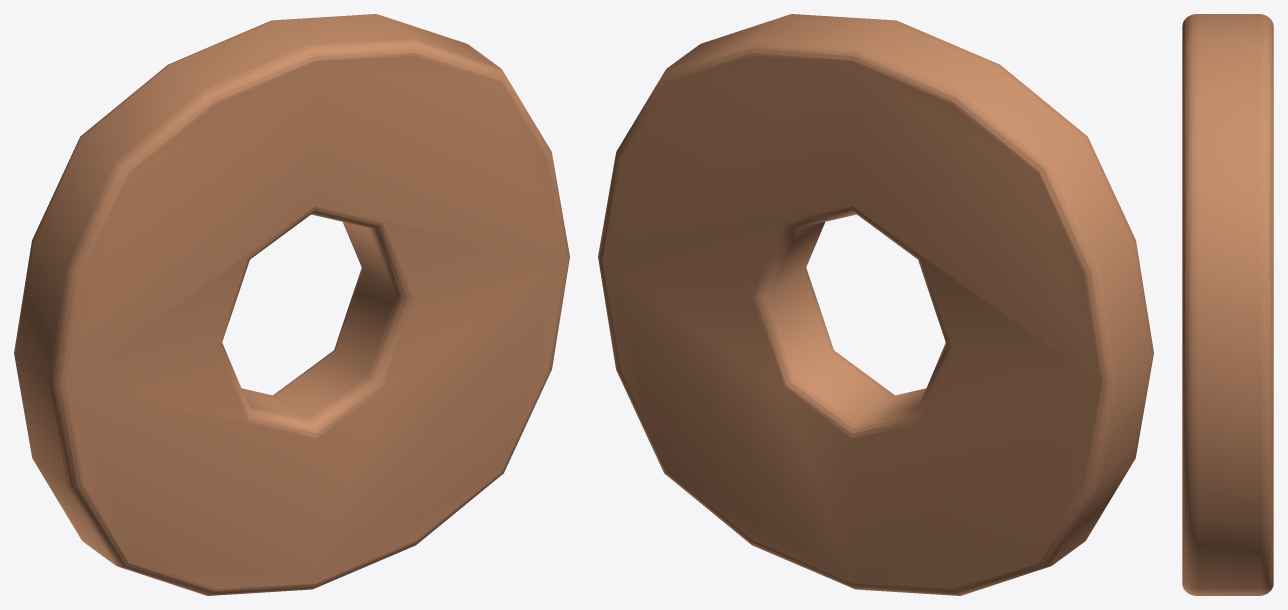
The model's file is clay-mark-clay-mesh.obj.
The picture shows the model from 3 angles, left to right: view 1: azimuth 30°, elevation 25°; view 2: azimuth 150°, elevation 25°; view 3: azimuth 270°, elevation 25°; orthographic projection. The views are drawn at different scales.
Visible parts, largest first — view 1: logo_1; view 2: logo_1; view 3: logo_1.
Part boxes in pixels (left/top/right/bottom): logo_1: left=14, top=14, right=569, bottom=595; logo_1: left=598, top=14, right=1153, bottom=595; logo_1: left=1182, top=14, right=1273, bottom=595.
Bounding box in the file's own units: 1.56 × 1.56 × 0.2467.
